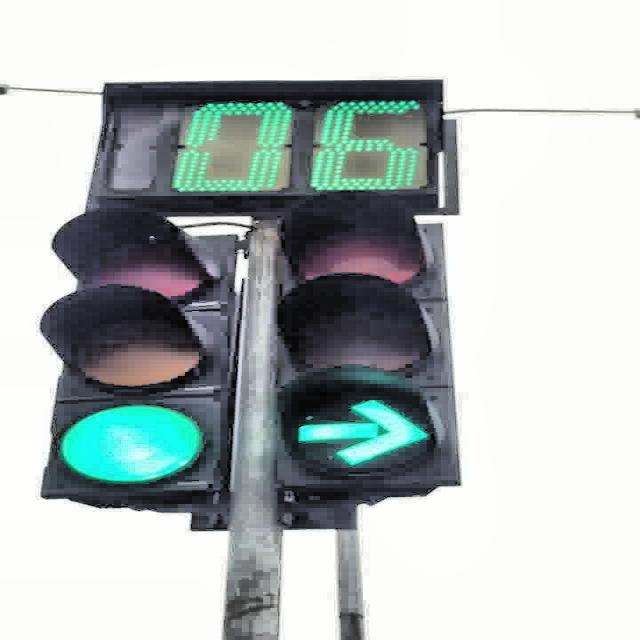green: (37, 206, 234, 498), (270, 190, 460, 490)
